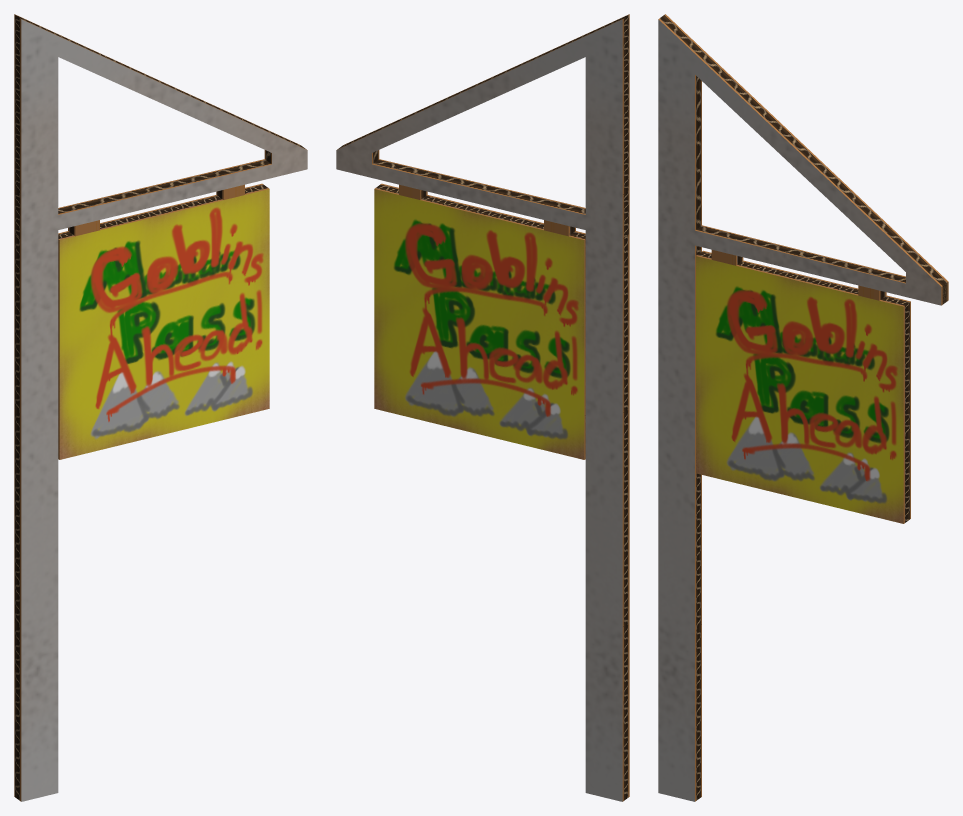
File: GoblinStandingSign.fbx
3 views of the same model, side by side, from view 1: azimuth 30°, elevation 25°; view 2: azimuth 150°, elevation 25°; view 3: azimuth 330°, elevation 25° (orthographic).
Parts seen in each view (by area): view 1: pCube15, pCube14; view 2: pCube15, pCube14; view 3: pCube15, pCube14.
Boxes of the visible parts, x1,y1,x2,y2 form: pCube15: [58, 183, 269, 459]; pCube14: [14, 14, 307, 801]; pCube15: [374, 183, 585, 459]; pCube14: [336, 14, 629, 801]; pCube15: [696, 250, 910, 523]; pCube14: [658, 14, 948, 801].
Size of the model in its own units: 1.05 by 2.74 by 0.0461.
